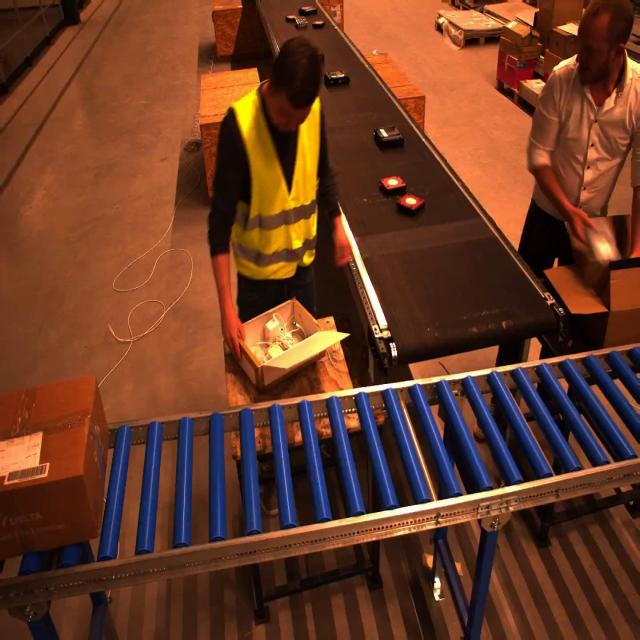box: (0, 369, 113, 559), (224, 294, 337, 391), (566, 215, 640, 346)
product: (373, 119, 404, 149), (394, 189, 424, 217), (380, 170, 407, 194), (325, 66, 348, 87), (293, 14, 310, 31), (300, 4, 315, 17), (283, 13, 298, 23), (314, 19, 325, 29)
